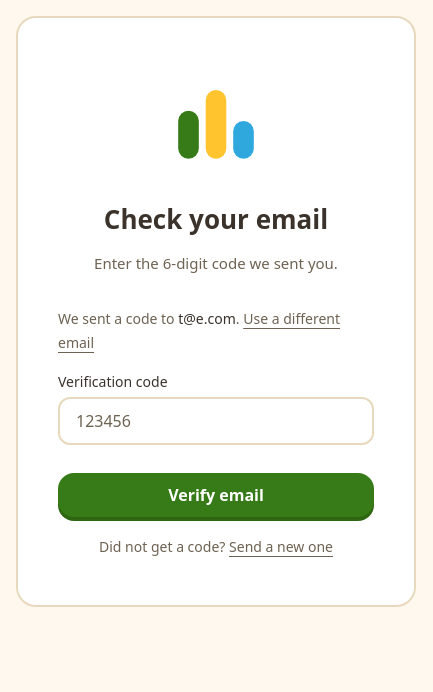
Test: EmailVerifyPage › resends the code to the read-only email and confirms it
The width and height of the screenshot is (433, 692).
Expected: the button "Verify email" is shown, [58,473,374,517]
Click the button "Send a new one". click: (281, 547)
box: [229,537,333,557]
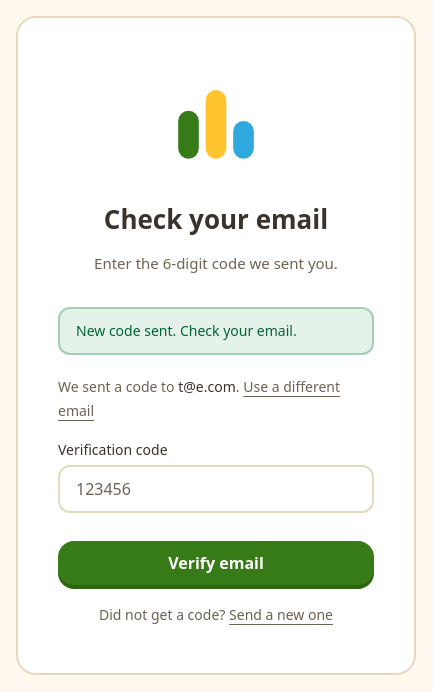
Expected: the message shows "New code sent.", [76,321,297,340]
